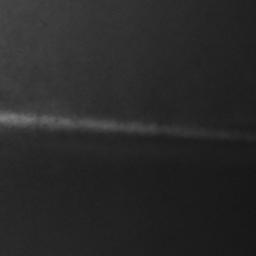Bright scratch: (1, 111, 232, 141)
